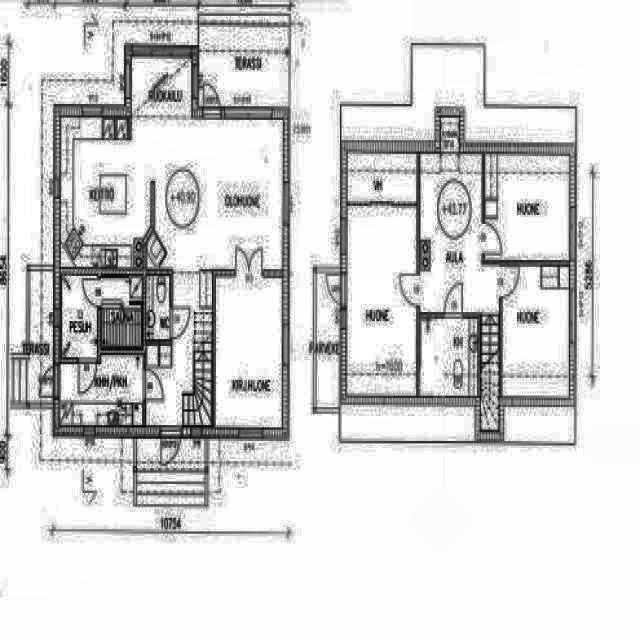room: (347, 207, 416, 396), (216, 278, 282, 428), (501, 267, 570, 398), (485, 155, 569, 261), (60, 354, 143, 426), (420, 320, 477, 396), (101, 274, 142, 348), (62, 275, 97, 358), (146, 276, 170, 340)
